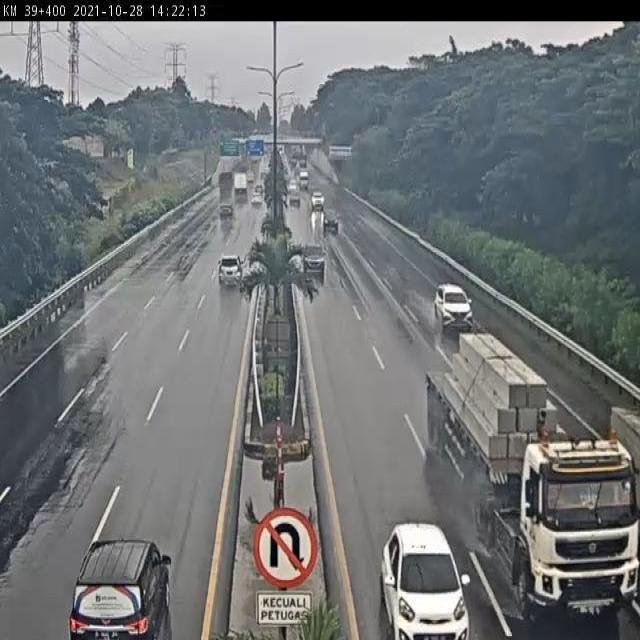car: (71, 536, 174, 640), (381, 522, 471, 640), (431, 279, 475, 329), (216, 252, 244, 291), (301, 240, 326, 273)
truck: (428, 343, 640, 617)
